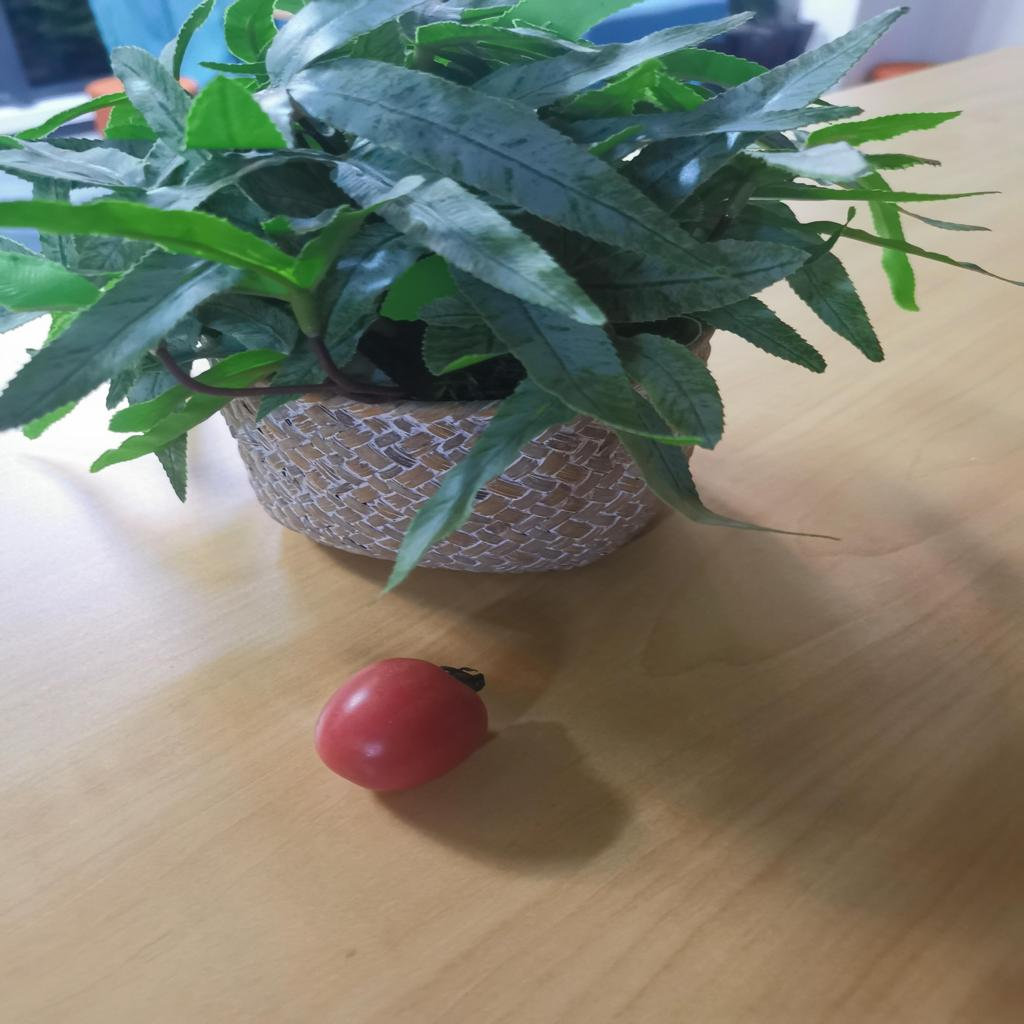tomato: (310, 656, 507, 796)
